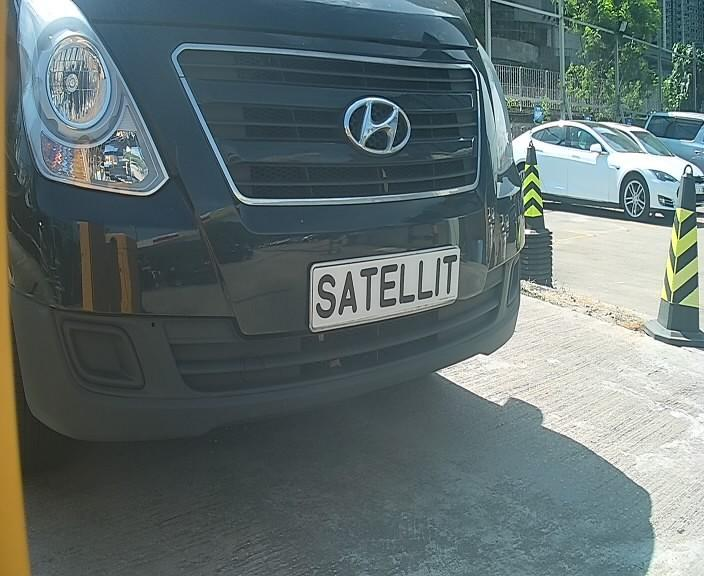privatecar: (7, 6, 547, 456)
